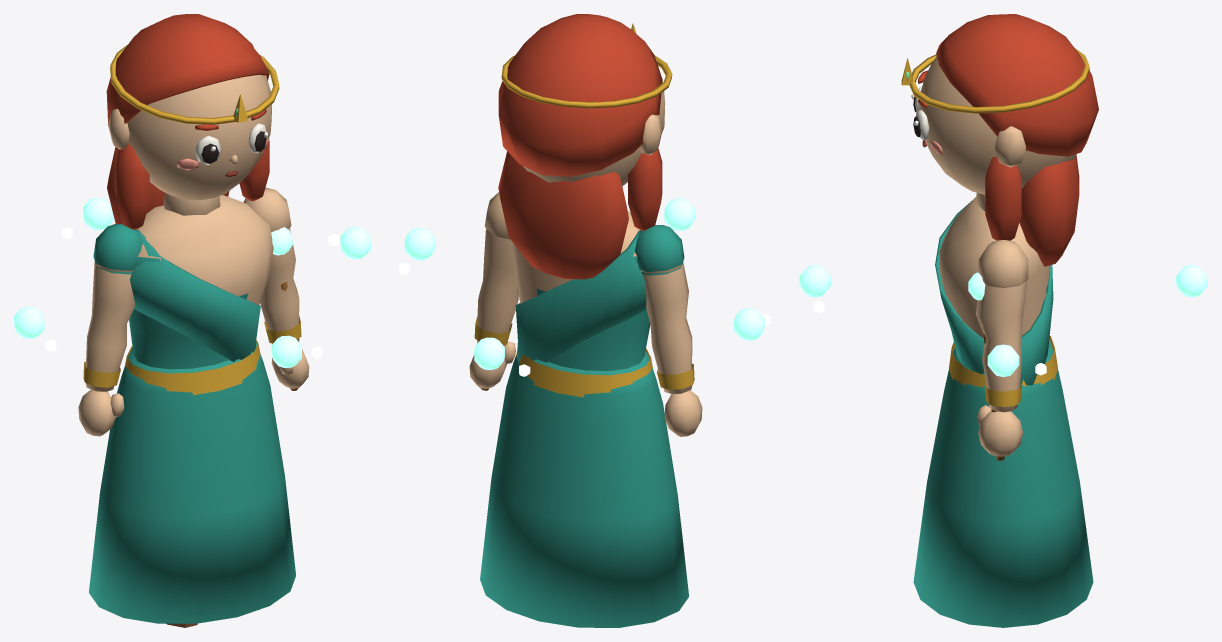
The model's file is kirke.glb.
3 renders of one model, left to right at view 1: azimuth 30°, elevation 25°; view 2: azimuth 150°, elevation 25°; view 3: azimuth 270°, elevation 25°, orthographic.
Visible parts, largest first — view 1: huefte, rumpf, haare, kopf, armL, armR, vfx_orbs, kopfschmuck, augeL, itemR; view 2: huefte, haare, rumpf, armL, armR, vfx_orbs, kopf, kopfschmuck; view 3: huefte, haare, rumpf, armR, kopf, vfx_orbs, kopfschmuck.
Boxes of the visible parts, <box> form: huefte: <box>89,342,295,623</box>; rumpf: <box>125,195,273,395</box>; haare: <box>106,14,269,229</box>; kopf: <box>108,75,271,215</box>; armL: <box>78,224,141,436</box>; armR: <box>243,187,309,388</box>; vfx_orbs: <box>14,197,370,367</box>; kopfschmuck: <box>110,45,279,124</box>; augeL: <box>195,135,221,165</box>; itemR: <box>271,227,298,390</box>; huefte: <box>480,351,688,627</box>; haare: <box>498,14,662,279</box>; rumpf: <box>512,211,652,397</box>; armL: <box>635,225,702,436</box>; armR: <box>469,192,518,388</box>; vfx_orbs: <box>399,198,770,376</box>; kopf: <box>523,91,665,185</box>; kopfschmuck: <box>501,23,672,108</box>; huefte: <box>913,339,1093,627</box>; haare: <box>936,14,1098,266</box>; rumpf: <box>935,197,1057,387</box>; armR: <box>976,240,1028,456</box>; kopf: <box>918,56,1076,211</box>; vfx_orbs: <box>799,208,1207,376</box>; kopfschmuck: <box>901,48,1089,113</box>.
Bounding box in the file's own units: 1.47 × 2.29 × 1.47.
